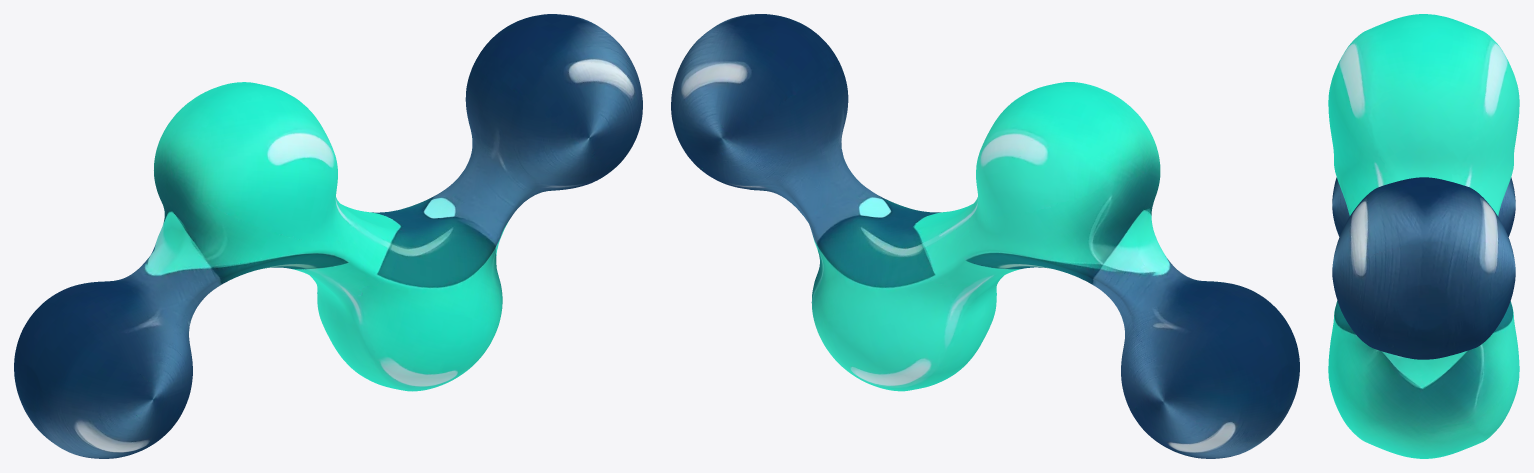
Rendered from pulse-hub3d.web.glb.
3 renders of one model, left to right at view 1: azimuth 30°, elevation 25°; view 2: azimuth 150°, elevation 25°; view 3: azimuth 270°, elevation 25°, orthographic. The views are drawn at different scales.
Visible parts, largest first — view 1: mesh_node; view 2: mesh_node; view 3: mesh_node.
Part boxes in pixels (left/top/right/bottom): mesh_node: left=14, top=14, right=642, bottom=458; mesh_node: left=671, top=14, right=1299, bottom=458; mesh_node: left=1328, top=14, right=1519, bottom=458.
Bounding box in the file's own units: 1.9 × 0.994 × 0.4988.
1 material, 1 textured.
